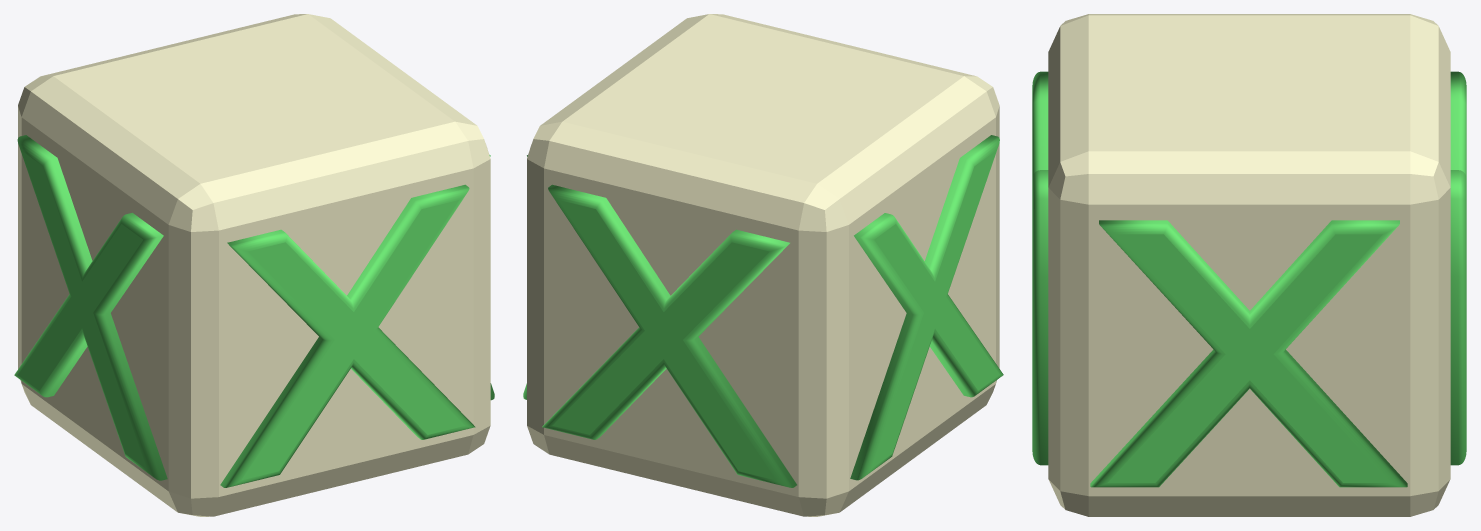
3 renders of one model, left to right at view 1: azimuth 30°, elevation 25°; view 2: azimuth 150°, elevation 25°; view 3: azimuth 270°, elevation 25°, orthographic. The views are drawn at different scales.
Visible parts, largest first — view 1: X; view 2: X; view 3: X.
Boxes of the visible parts, x1,y1,x2,y2 form: X: (14,14,494,516); X: (523,14,1003,516); X: (1032,14,1466,516).
Bounding box in the file's own units: 216 × 200 × 216.
